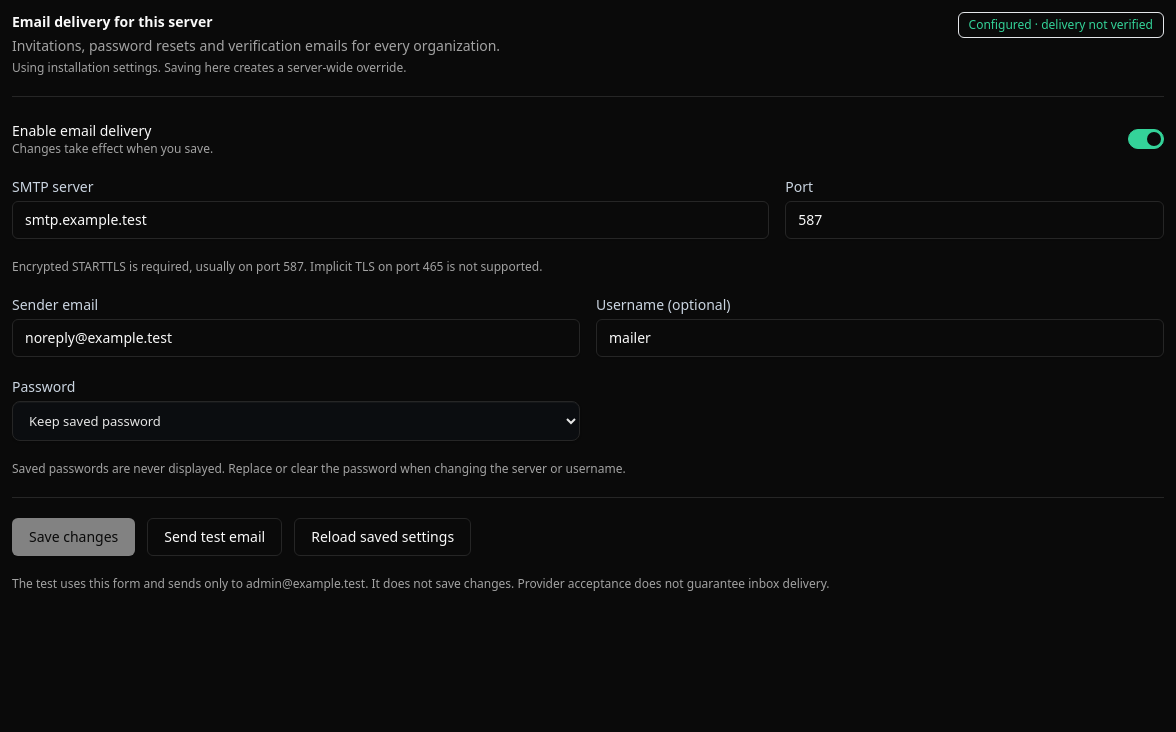
Test: server email settings › shows failed test separately, retains draft and saved revision, and clears a replacement secret after saving
This screenshot has width=1176, height=732.
Expected: the field labelled "SMTP server" is shown, [12, 201, 769, 239]
Select "Set a new password" in the dropdown named "Password action": [296, 421] box [12, 401, 580, 441]
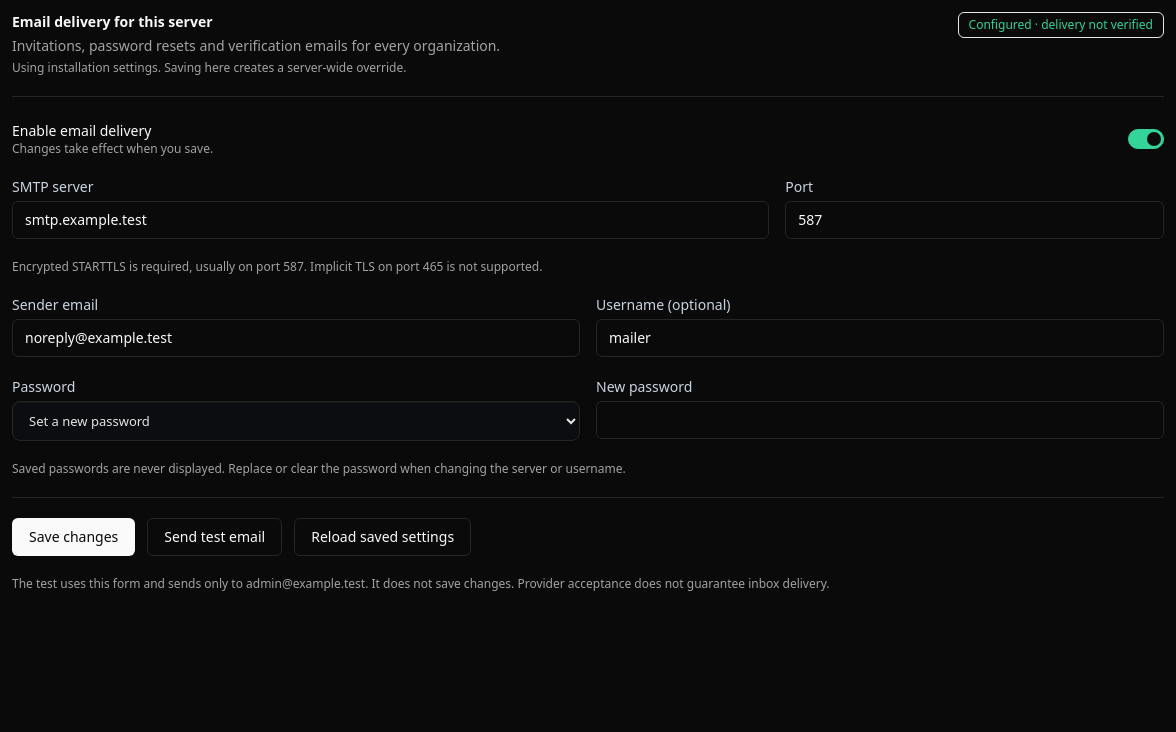
In the password field named "New SMTP password": [880, 420] box [596, 401, 1164, 439], type "demo-secret"
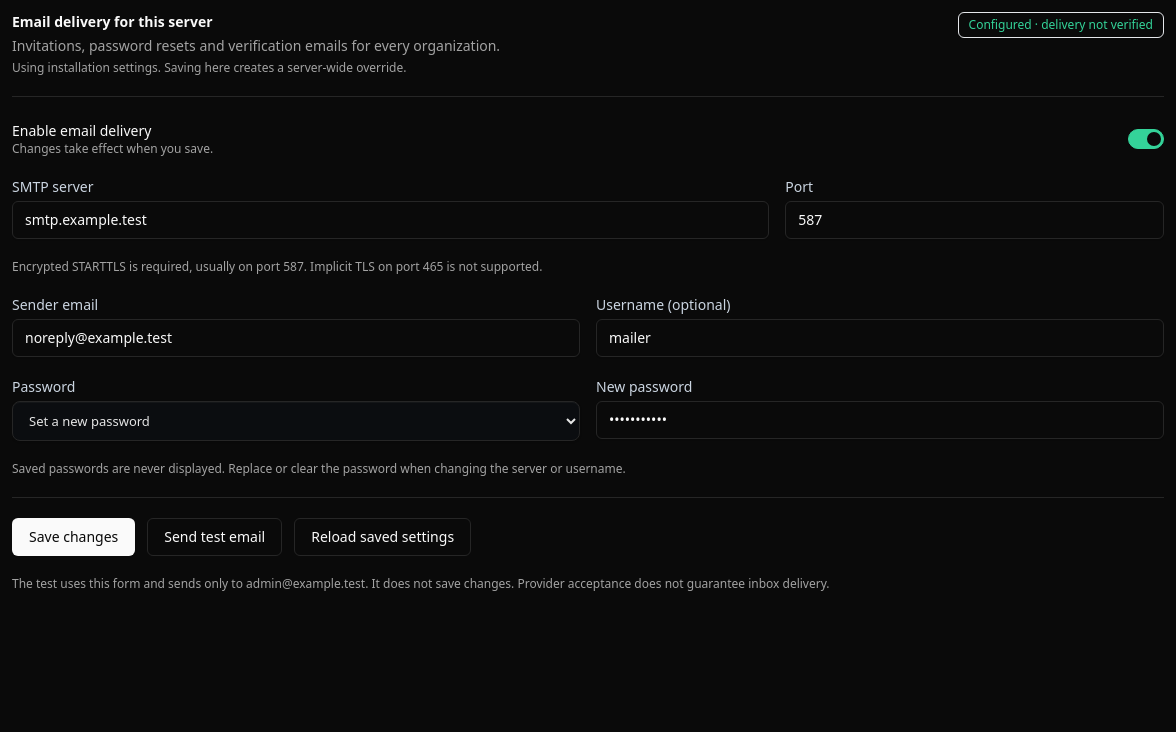
Click the button "Send test email": [215, 537] box [147, 518, 282, 556]
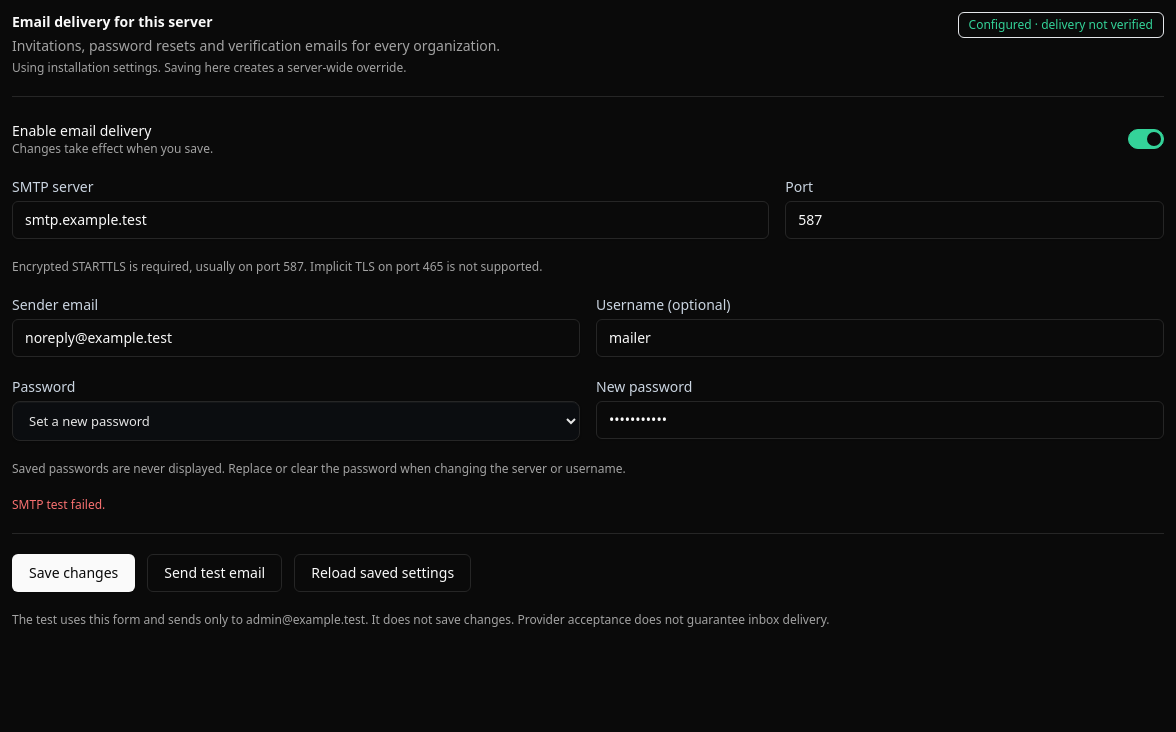
Expected: the text "SMTP test failed." is shown, [12, 496, 105, 513]
Click the button "Save changes": [74, 573] box [12, 554, 135, 592]
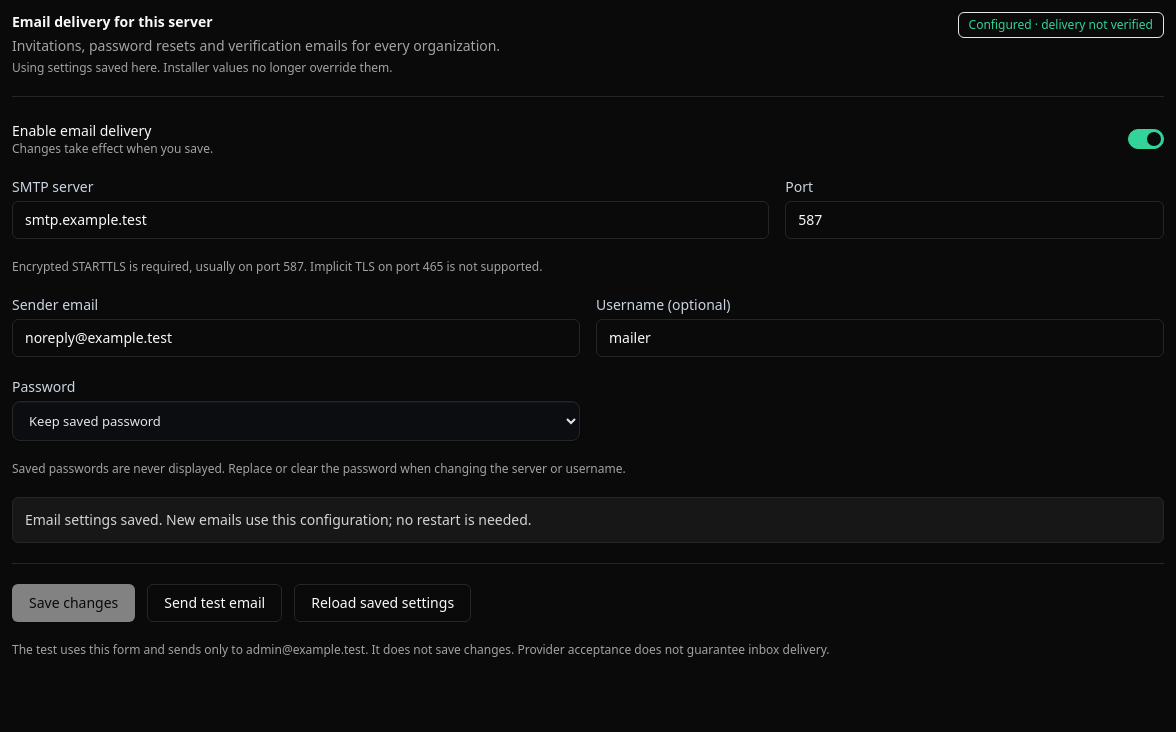
Expected: the text "Email settings saved. New emails use this configuration; no restart is needed." is shown, [12, 497, 1164, 543]
Expected: the button "Save changes" is disabled, [12, 584, 135, 622]
